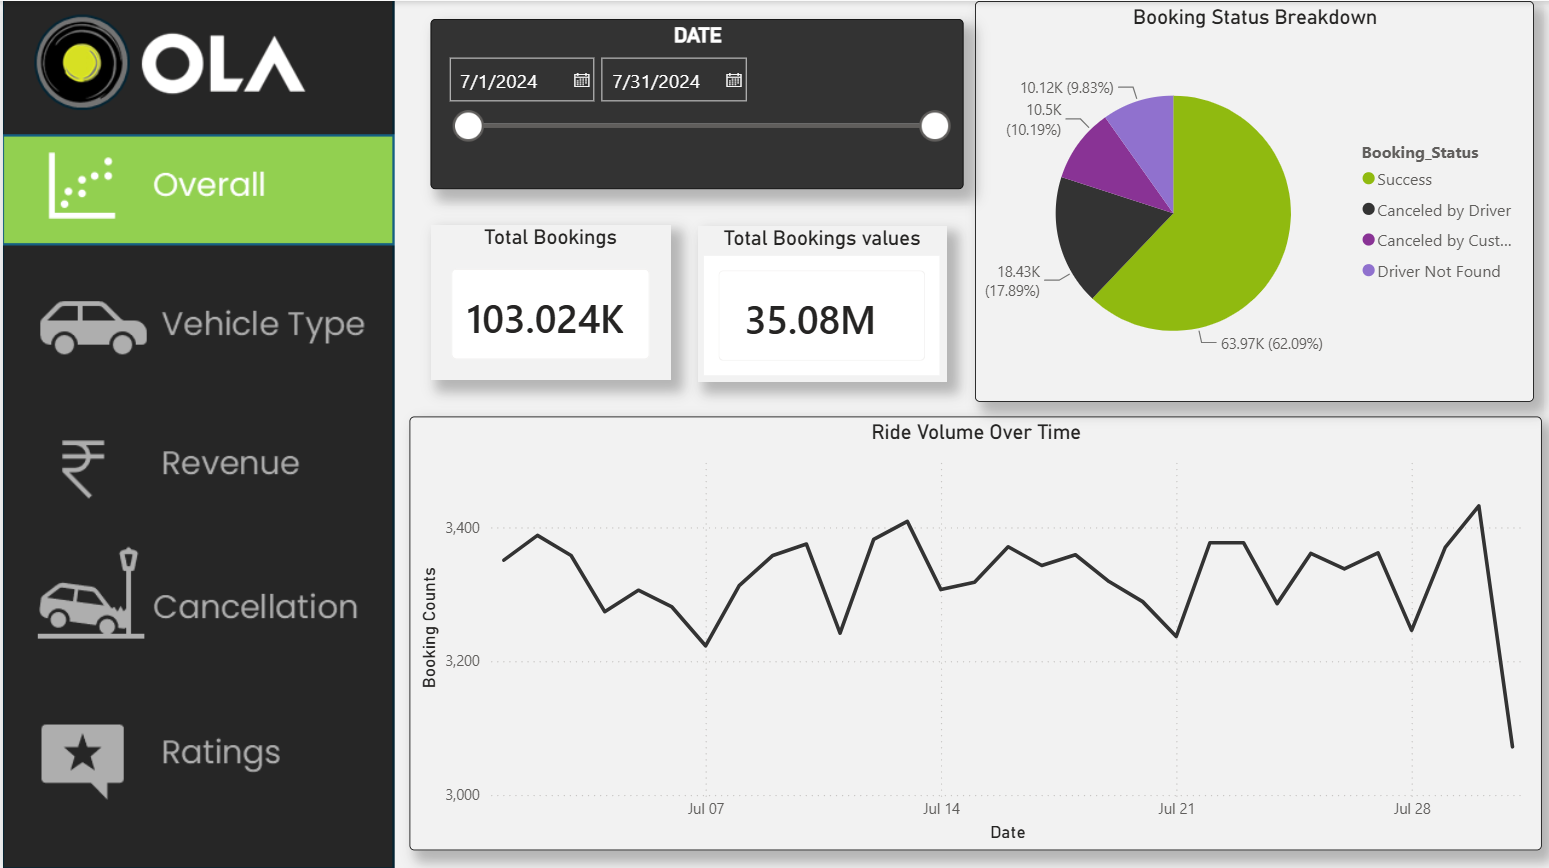

What the dashboard file says about the page in this screenshot:
{"tool":"powerbi","page":{"name":"overall","canvas":[1280,720],"ordinal":0},"visuals":[{"type":"actionButton","box":[10.3,227.3,320.2,86.5],"z":0},{"type":"actionButton","box":[0,343.5,320.2,87.8],"z":1000},{"type":"actionButton","box":[0,222.1,315.1,91.7],"z":2000},{"type":"actionButton","box":[2.6,222.1,315.1,91.7],"z":3000},{"type":"actionButton","box":[10,353.5,320.2,87.8],"z":4000},{"type":"actionButton","box":[0,457.1,320.2,87.8],"z":5000},{"type":"actionButton","box":[0,597.8,320.2,87.8],"z":6000},{"type":"actionButton","box":[0,343.5,320.2,87.8],"z":7000},{"type":"lineChart","title":"Ride Volume Over Time","fields":{"Y":["Count(July.Booking_ID)"],"Category":["July.Date"]},"box":[336.2,343.7,935.8,358.9],"z":8000},{"type":"pieChart","title":"Booking Status Breakdown","fields":{"Category":["July.Booking_Status"],"Y":["CountNonNull(July.Booking_Status)"]},"box":[804,0,461.8,331.6],"z":9000},{"type":"slicer","title":"DATE ","fields":{"Values":["July.Date"]},"box":[352.8,15.1,440.6,140.8],"z":10000},{"type":"cardVisual","title":"Total Bookings ","fields":{"Data":["CountNonNull(July.Booking_ID)"]},"box":[352.8,184.7,198.4,128.7],"z":11000},{"type":"cardVisual","title":"Total Bookings values ","fields":{"Data":["Sum(July.Booking_Value)"]},"box":[573.9,186.2,205.9,128.7],"z":12000}]}

Visuals, with their boxes in screenshot pixels (x1, y1, x2, y2), scaled from the page's 1280x720 canvas onto the 1549x868 screenshot:
actionButton: rect(12, 274, 400, 378)
actionButton: rect(0, 414, 387, 520)
actionButton: rect(0, 268, 381, 378)
actionButton: rect(3, 268, 384, 378)
actionButton: rect(12, 426, 400, 532)
actionButton: rect(0, 551, 387, 657)
actionButton: rect(0, 721, 387, 827)
actionButton: rect(0, 414, 387, 520)
"Ride Volume Over Time" lineChart: rect(407, 414, 1539, 847)
"Booking Status Breakdown" pieChart: rect(973, 0, 1532, 400)
"DATE " slicer: rect(427, 18, 960, 188)
"Total Bookings " cardVisual: rect(427, 223, 667, 378)
"Total Bookings values " cardVisual: rect(695, 224, 944, 380)
